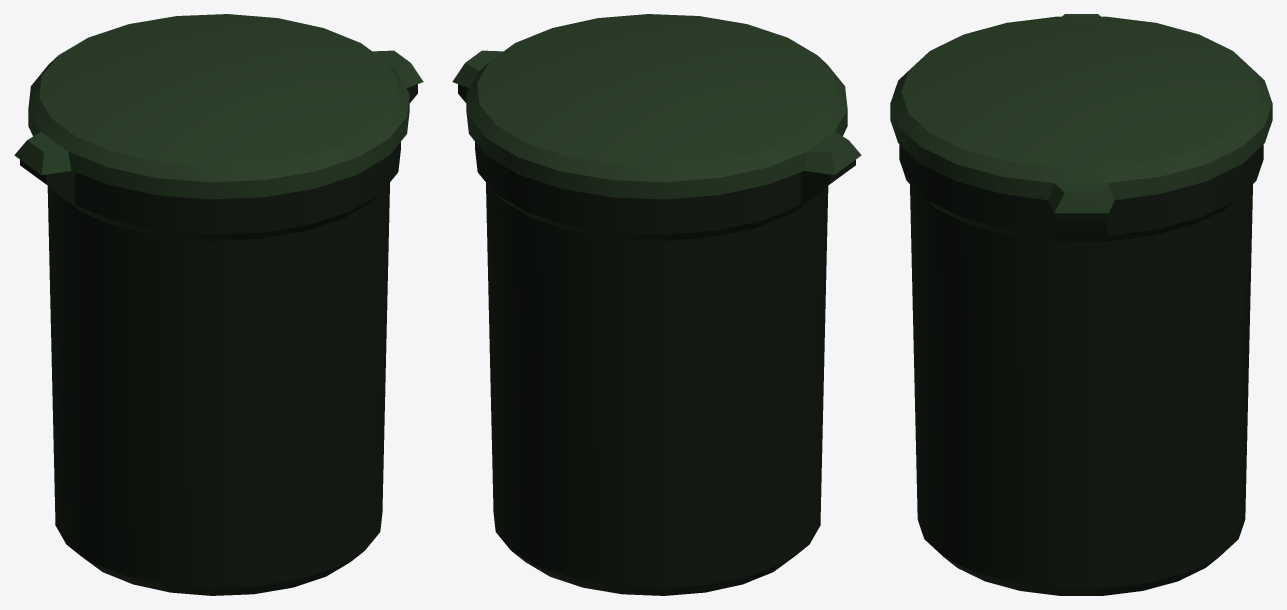
Rendered from RS_BaseBin.fbx.
3 views of the same model, side by side, from view 1: azimuth 30°, elevation 25°; view 2: azimuth 150°, elevation 25°; view 3: azimuth 270°, elevation 25° (orthographic).
Visible parts, largest first — view 1: BinBody, BinLid; view 2: BinBody, BinLid; view 3: BinBody, BinLid.
Part boxes in pixels (x1=…): BinBody: x1=20, y1=84, x2=417, y2=595; BinLid: x1=14, y1=14, x2=423, y2=199; BinBody: x1=458, y1=84, x2=855, y2=595; BinLid: x1=452, y1=14, x2=861, y2=199; BinBody: x1=899, y1=144, x2=1263, y2=595; BinLid: x1=890, y1=14, x2=1272, y2=213.
Size of the model in its own units: 80.6 by 92.48 by 69.97.
